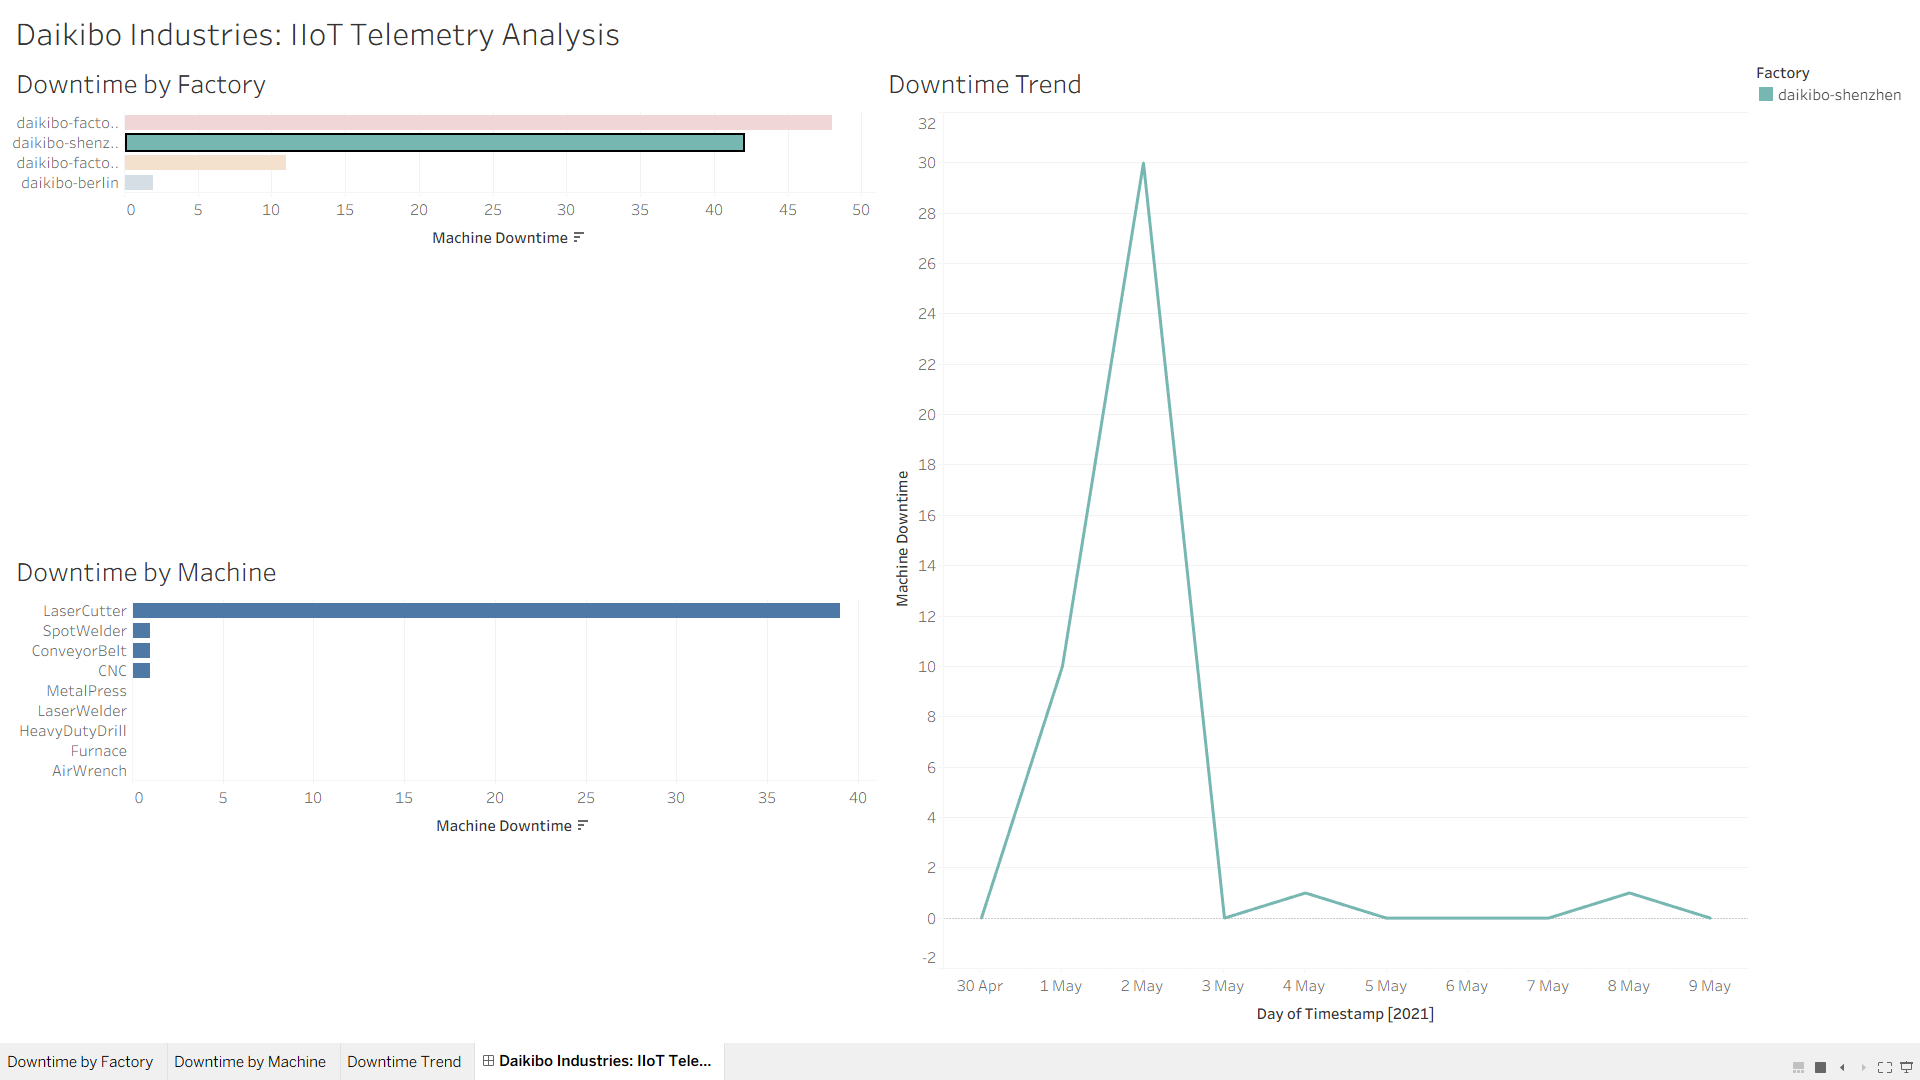

The page's visual inventory and layout, read from the dashboard file:
{"tool":"tableau","page":{"name":"Daikibo Industries: IIoT Telemetry Analysis","canvas":[1000,1000],"units":"permille","ordinal":0},"visuals":[{"type":"title","box":[4.8,8.8,990.3,54.9]},{"type":"worksheet","title":"Downtime by Factory","mark":"Automatic","rows":["factory"],"cols":["Calculation_1813951393034240"],"box":[4.8,63.7,440.6,463.7]},{"type":"worksheet","title":"Downtime Trend","mark":"Automatic","rows":["Calculation_1813951393034240"],"cols":["timestamp"],"box":[445.4,63.7,453.2,927.6]},{"type":"legend","title":"Downtime Trend","param":"[federated.0dfa3hv15g2pef1g6h5f31583lfa].[none:factory:nk]","box":[898.6,63.7,96.6,125.1]},{"type":"legend","title":"Downtime by Machine","param":"[federated.0dfa3hv15g2pef1g6h5f31583lfa].[sum:Calculation_1813951393034240:qk]","box":[898.6,188.8,96.6,26.3]},{"type":"worksheet","title":"Downtime by Machine","mark":"Automatic","rows":["deviceType"],"cols":["Calculation_1813951393034240"],"box":[4.8,527.4,440.6,463.8]}]}

Visuals, with their boxes on the dashboard's canvas, which has no fixed pixel size, in thousandths of its width and height (x1, y1, x2, y2). These are canvas units, not pixel positions in the 1920x1080 screenshot, which may show the page scaled, cropped or inside an application window:
title: locate(5, 9, 995, 64)
"Downtime by Factory" worksheet: locate(5, 64, 445, 527)
"Downtime Trend" worksheet: locate(445, 64, 899, 991)
"Downtime Trend" legend: locate(899, 64, 995, 189)
"Downtime by Machine" legend: locate(899, 189, 995, 215)
"Downtime by Machine" worksheet: locate(5, 527, 445, 991)
